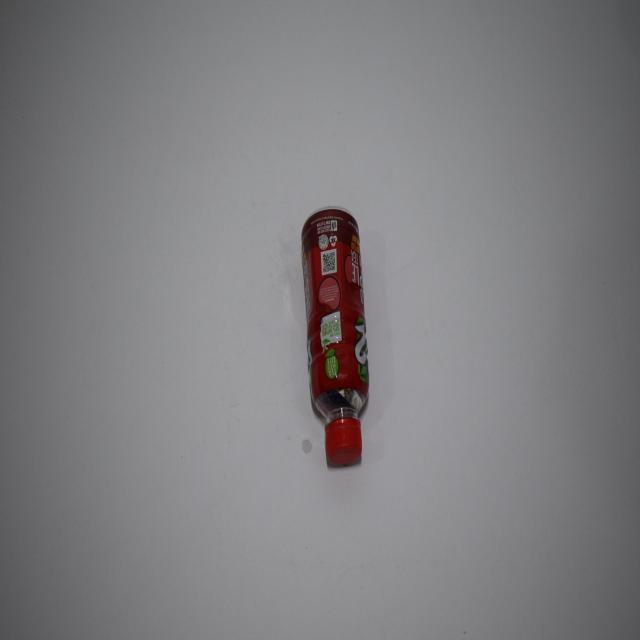bottle: (292, 201, 388, 489)
